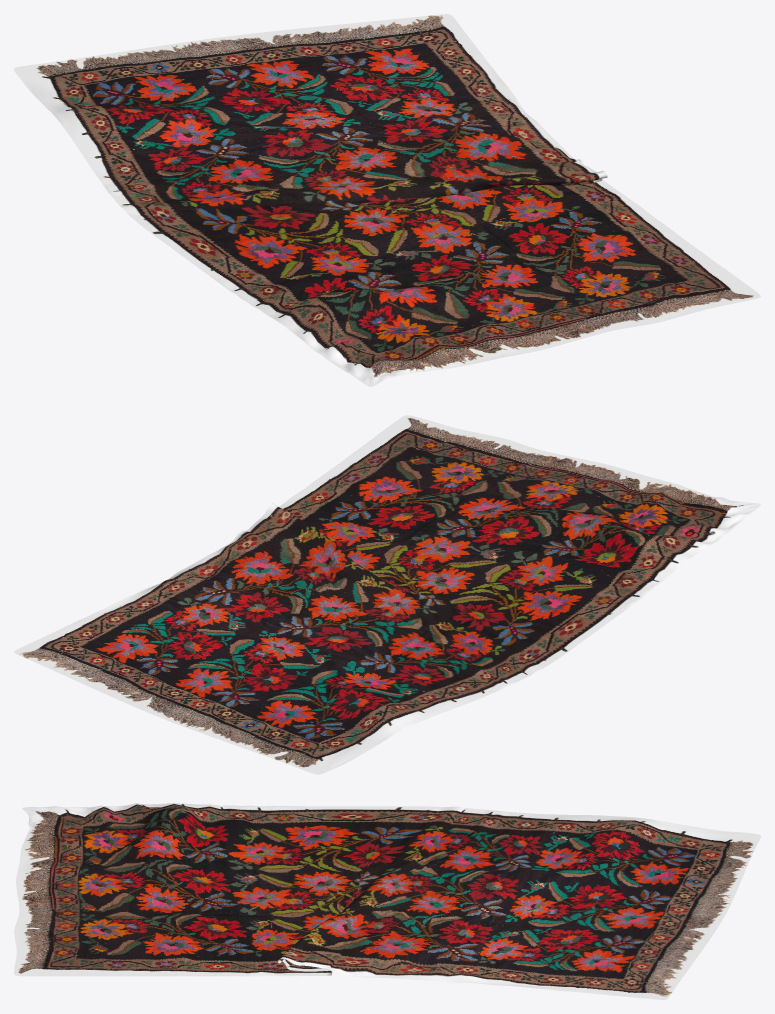
The model's file is Rug.obj.
3 views of the same model, one above another, from view 1: azimuth 30°, elevation 25°; view 2: azimuth 150°, elevation 25°; view 3: azimuth 270°, elevation 25° (orthographic). The views are drawn at different scales.
Visible parts, largest first — view 1: Rug_Plane.021; view 2: Rug_Plane.021; view 3: Rug_Plane.021.
Part boxes in pixels (box(x1,y1,x2,y2)): Rug_Plane.021: box(14, 14, 760, 386); Rug_Plane.021: box(14, 415, 760, 774); Rug_Plane.021: box(14, 803, 760, 999).
Size of the model in its own units: 1.14 by 0.0572 by 1.86.
